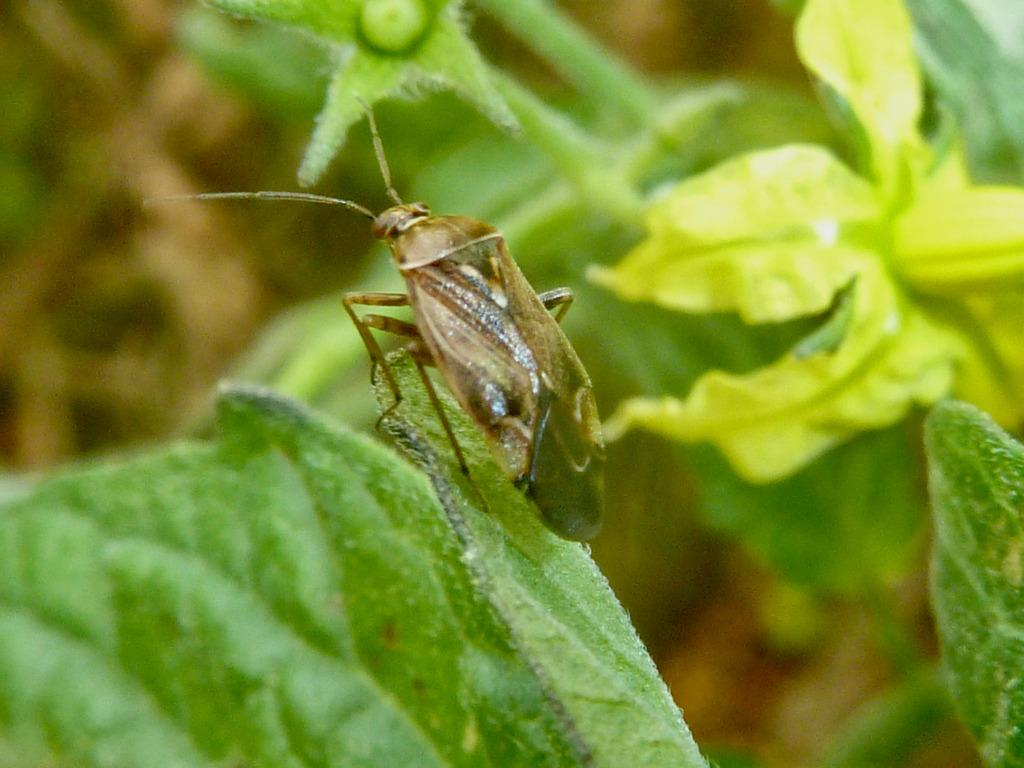plant_bugs: (120, 33, 721, 590)
